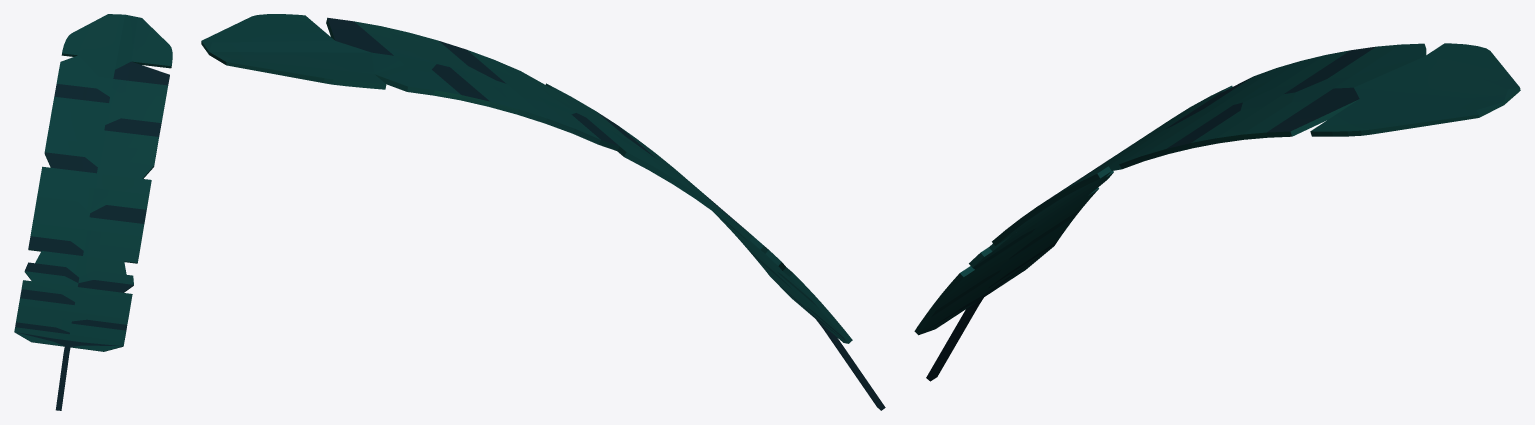
Rendered from Garden_FigLeafLight.fbx.
3 renders of one model, left to right at view 1: azimuth 30°, elevation 25°; view 2: azimuth 150°, elevation 25°; view 3: azimuth 270°, elevation 25°, orthographic. The views are drawn at different scales.
Visible parts, largest first — view 1: Cube.420; view 2: Cube.420; view 3: Cube.420.
Part boxes in pixels (<box>): Cube.420: <box>14,14,172,410</box>; Cube.420: <box>201,14,885,410</box>; Cube.420: <box>914,43,1520,381</box>.
Size of the model in its own units: 225 by 220 by 250.
